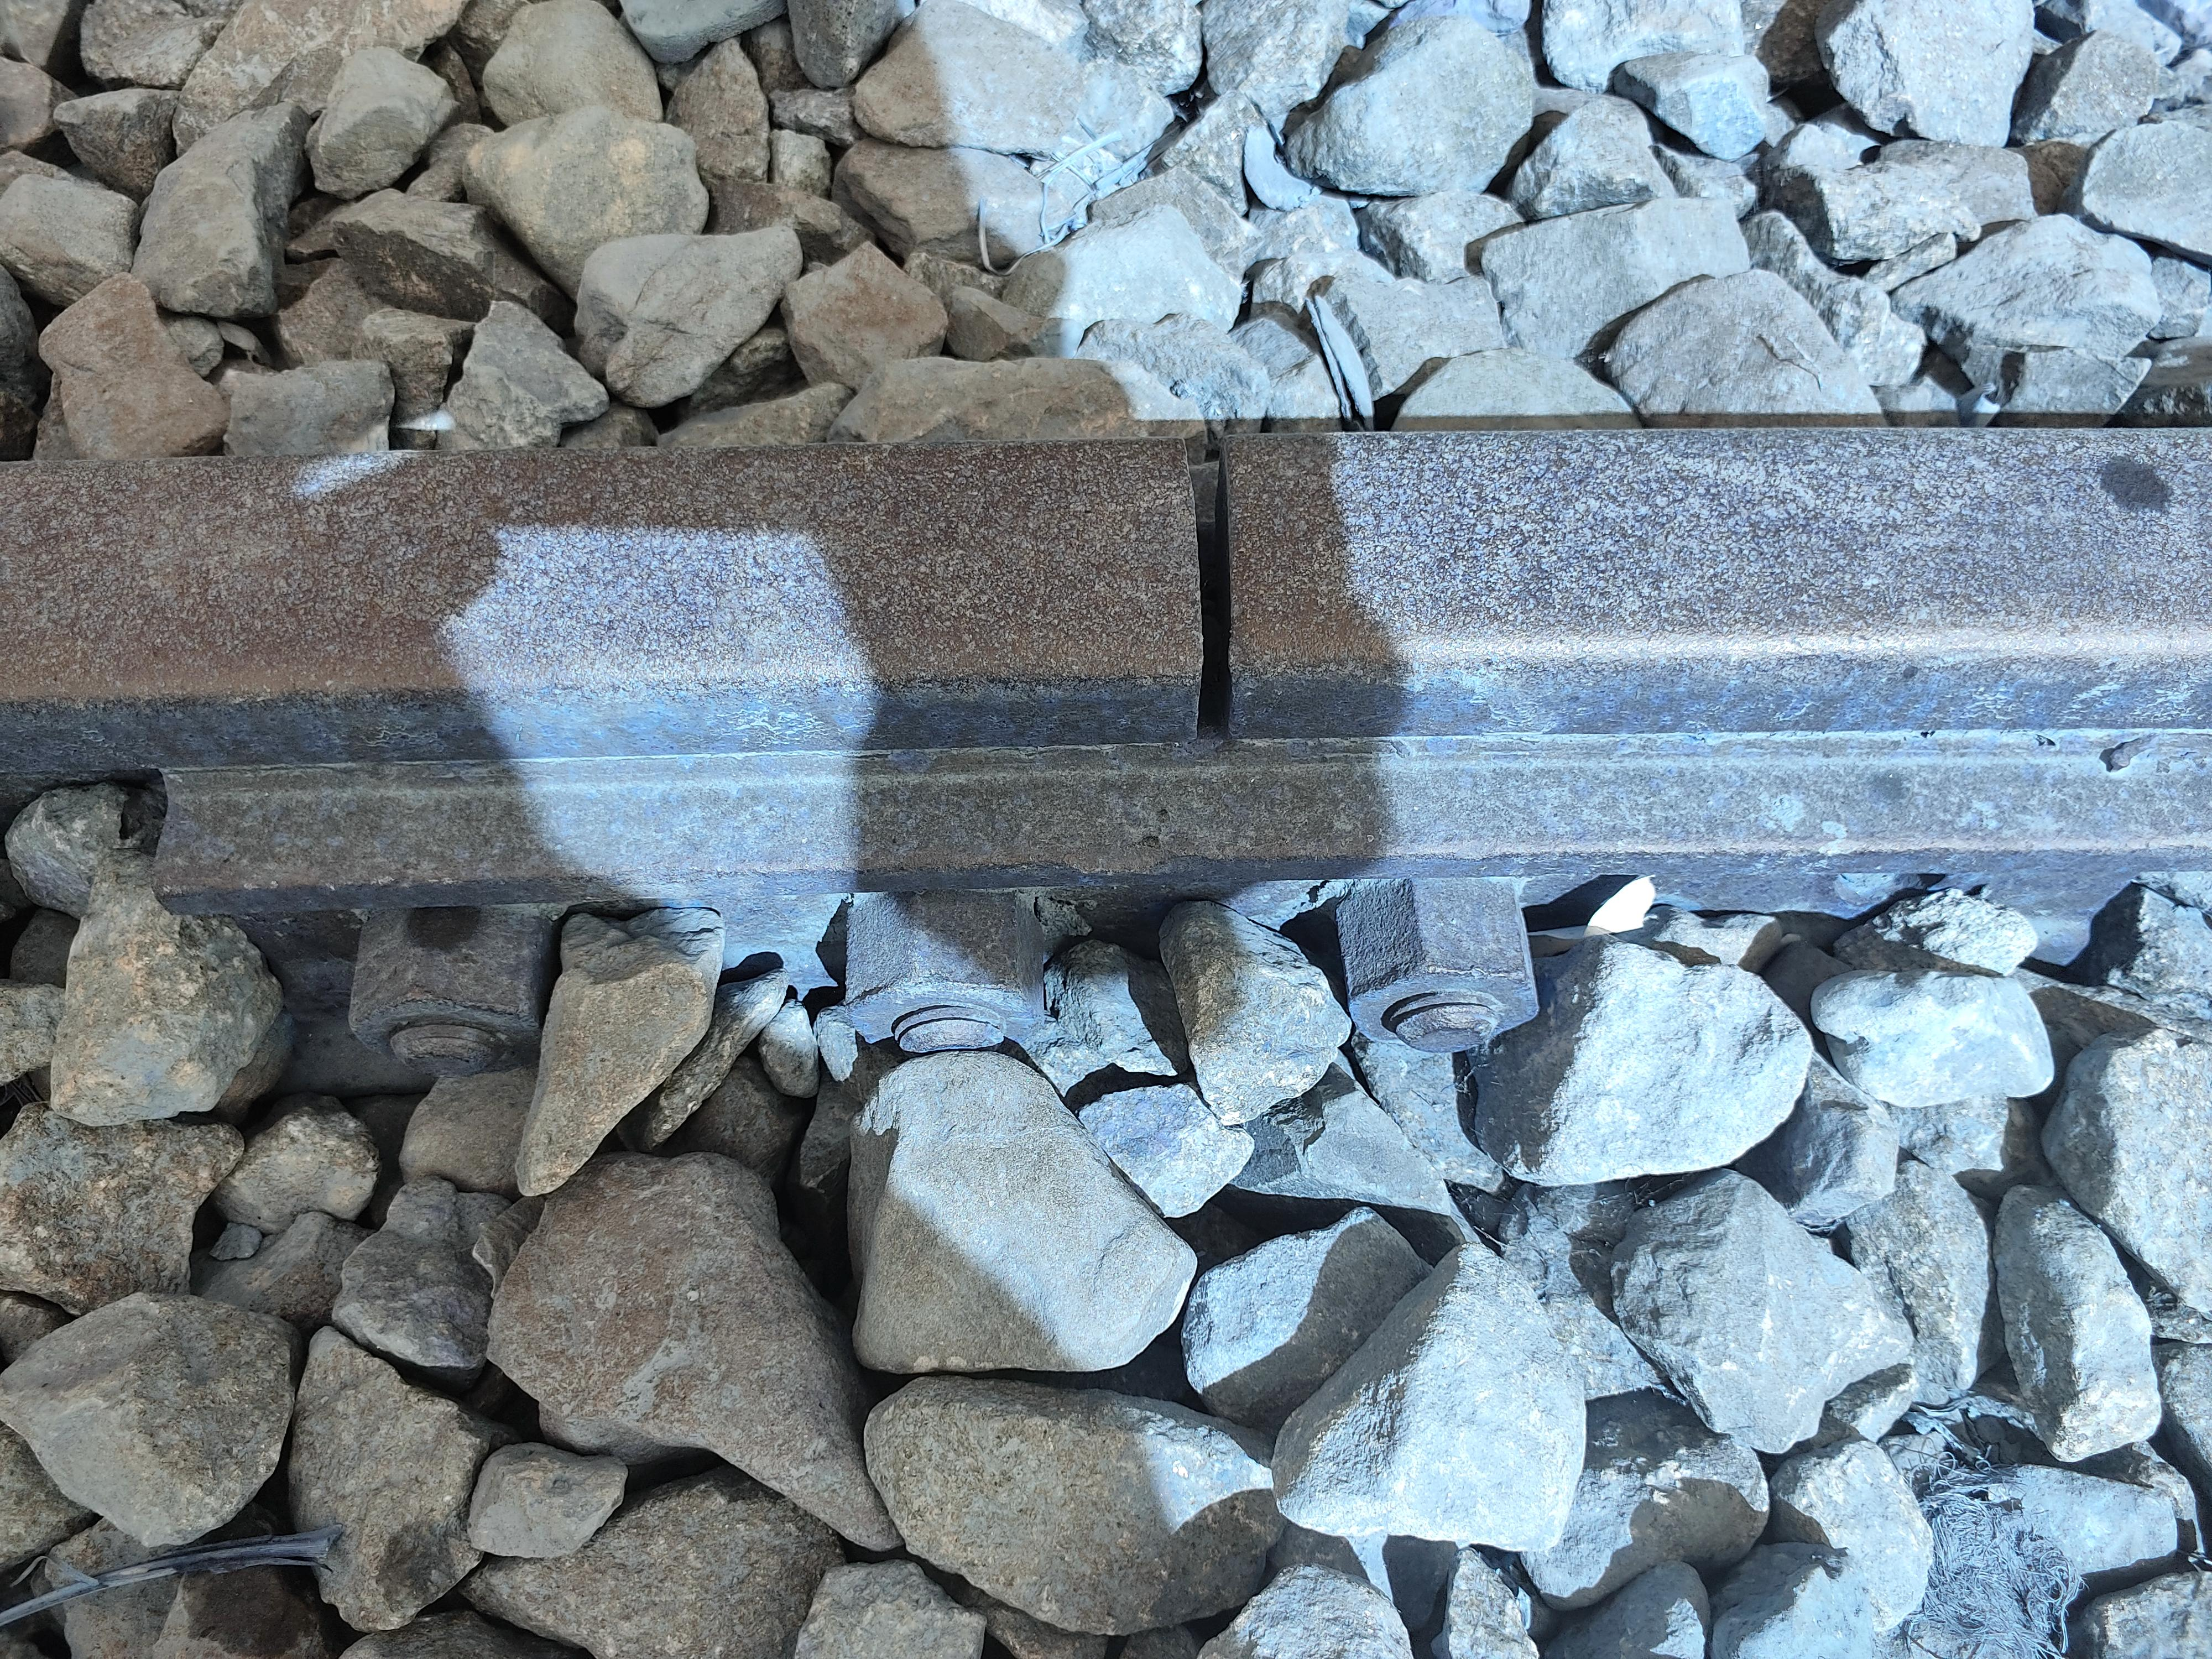error2: (1090, 364, 1364, 789)
